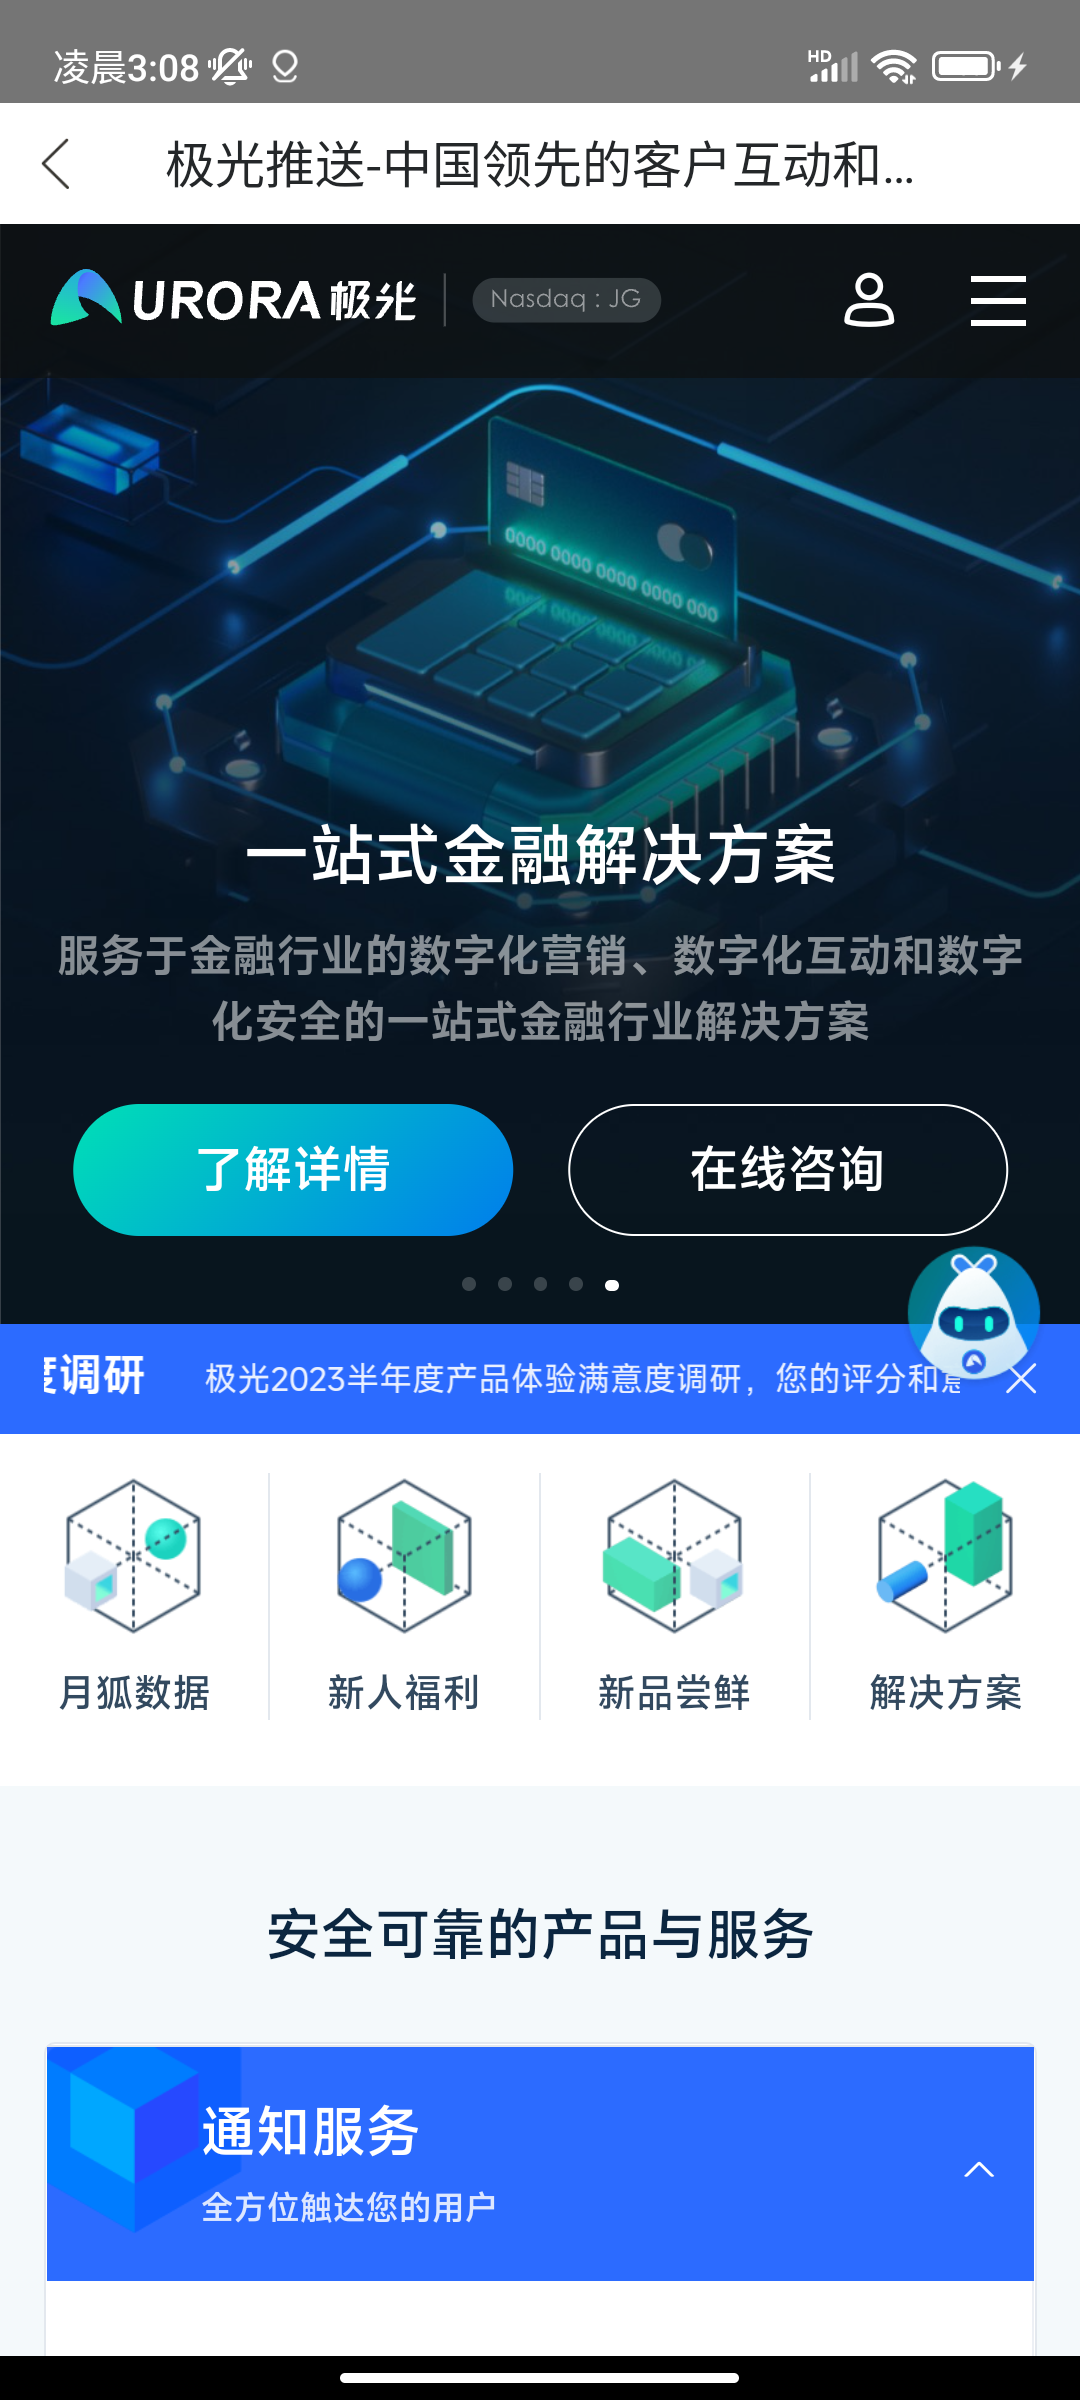ui_group: (2, 372, 1080, 1326), (47, 2045, 1033, 2284), (817, 1453, 1080, 1756), (551, 1453, 800, 1753), (288, 1460, 528, 1743), (31, 1463, 242, 1737)
